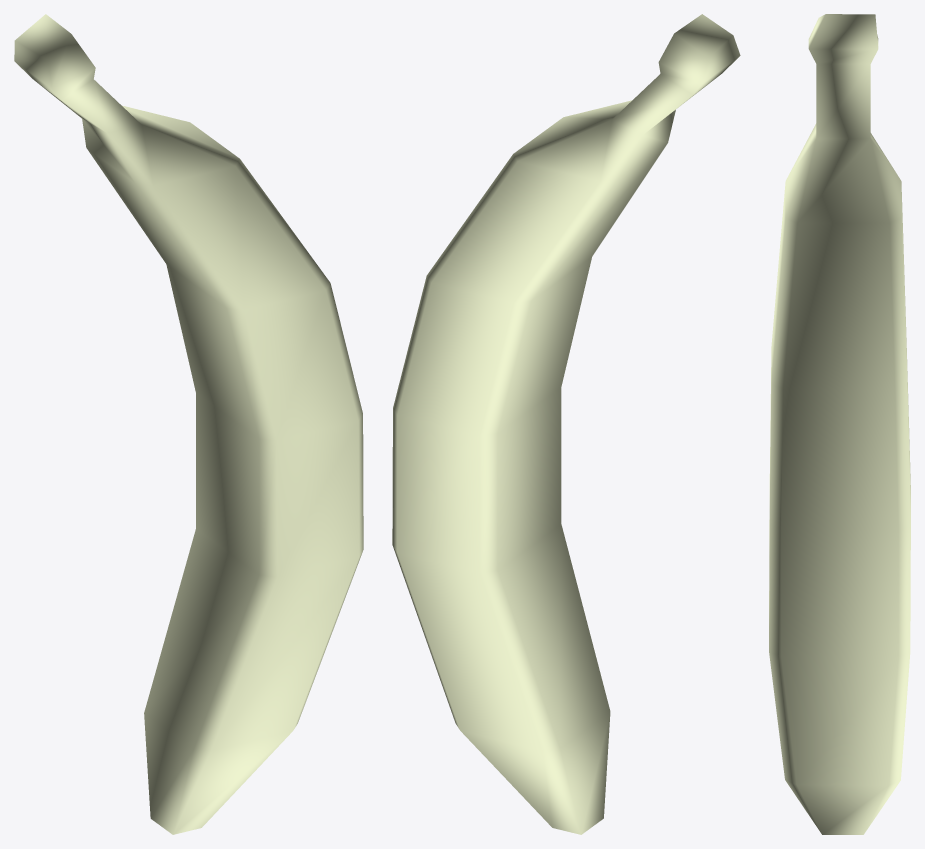
Rendered from FP_banana.FBX.
The picture shows the model from 3 angles, left to right: view 1: azimuth 30°, elevation 25°; view 2: azimuth 150°, elevation 25°; view 3: azimuth 270°, elevation 25°; orthographic projection. The views are drawn at different scales.
Visible parts, largest first — view 1: FP_banana; view 2: FP_banana; view 3: FP_banana.
Part boxes in pixels (x1,y1,x2,y2): FP_banana: (14, 14, 363, 834); FP_banana: (392, 14, 740, 834); FP_banana: (769, 14, 910, 834).
Size of the model in its own units: 0.0542 by 0.1424 by 0.024.
